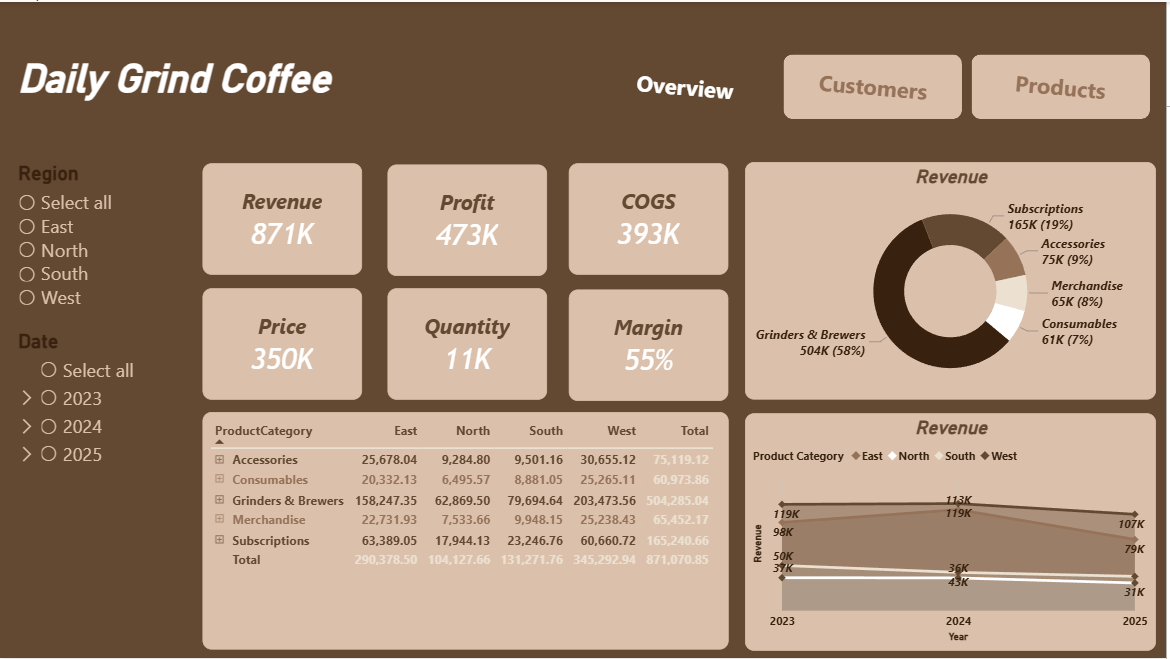

What the dashboard file says about the page in this screenshot:
{"tool":"powerbi","page":{"name":"Overview","canvas":[1280,720],"ordinal":0},"visuals":[{"type":"listSlicer","fields":{"Values":["Daily_Grind_Coffee.Region"]},"box":[15.1,175.6,222.3,273.1],"z":0},{"type":"listSlicer","title":"Date","fields":{"Values":["Daily_Grind_Coffee.OrderDate.Variation.Date Hierarchy.Year","Daily_Grind_Coffee.OrderDate.Variation.Date Hierarchy.Quarter","Daily_Grind_Coffee.OrderDate.Variation.Date Hierarchy.Month","Daily_Grind_Coffee.OrderDate.Variation.Date Hierarchy.Day"]},"box":[15.1,359.5,222.3,319.7],"z":1000},{"type":"cardVisual","fields":{"Data":["Sum(Daily_Grind_Coffee.Cleaned Revenue)"]},"box":[222.6,177.4,175,122.6],"z":2000},{"type":"cardVisual","fields":{"Data":["Sum(Daily_Grind_Coffee.Profit)"]},"box":[425,178.6,175,122.6],"z":3000},{"type":"cardVisual","fields":{"Data":["Sum(Daily_Grind_Coffee.COGS)"]},"box":[625,177.4,175,122.6],"z":4000},{"type":"cardVisual","fields":{"Data":["Sum(Daily_Grind_Coffee.Price)"]},"box":[222.6,314.3,175,122.6],"z":5000},{"type":"cardVisual","fields":{"Data":["Sum(Daily_Grind_Coffee.Quantity)"]},"box":[425,314.3,175,122.6],"z":6000},{"type":"cardVisual","fields":{"Data":["Daily_Grind_Coffee.Margin"]},"box":[625,315.5,175,122.6],"z":7000},{"type":"pivotTable","fields":{"Values":["Sum(Daily_Grind_Coffee.Cleaned Revenue)"],"Rows":["Daily_Grind_Coffee.Product Hierarchy.ProductCategory","Daily_Grind_Coffee.Product Hierarchy.ProductName"],"Columns":["Daily_Grind_Coffee.Region"]},"box":[222.6,450,577.4,260.7],"z":8000},{"type":"donutChart","title":"Revenue","fields":{"Category":["Daily_Grind_Coffee.ProductCategory"],"Y":["Sum(Daily_Grind_Coffee.Cleaned Revenue)"]},"box":[817.9,176.2,451.2,260.7],"z":9000},{"type":"areaChart","title":"Revenue","fields":{"Category":["Daily_Grind_Coffee.OrderDate.Variation.Date Hierarchy.Year","Daily_Grind_Coffee.OrderDate.Variation.Date Hierarchy.Quarter","Daily_Grind_Coffee.OrderDate.Variation.Date Hierarchy.Month","Daily_Grind_Coffee.OrderDate.Variation.Date Hierarchy.Day"],"Y":["Sum(Daily_Grind_Coffee.Cleaned Revenue)"],"Series":["Daily_Grind_Coffee.Region"]},"box":[817.9,451.2,451.2,260.7],"z":10000},{"type":"pageNavigator","title":"n","box":[650.4,53.5,618.9,79.6],"z":11000},{"type":"textbox","box":[15.1,53.5,558.5,149.6],"z":12000}]}

Visuals, with their boxes in screenshot pixels (x1, y1, x2, y2), scaled from the page's 1280x720 canvas onto the 1170x659 screenshot:
listSlicer - Daily_Grind_Coffee.Region: 14,161,217,411
"Date" listSlicer: 14,329,217,622
cardVisual - Sum(Daily_Grind_Coffee.Cleaned Revenue): 203,162,363,275
cardVisual - Sum(Daily_Grind_Coffee.Profit): 388,163,548,276
cardVisual - Sum(Daily_Grind_Coffee.COGS): 571,162,731,275
cardVisual - Sum(Daily_Grind_Coffee.Price): 203,288,363,400
cardVisual - Sum(Daily_Grind_Coffee.Quantity): 388,288,548,400
cardVisual - Daily_Grind_Coffee.Margin: 571,289,731,401
pivotTable - Sum(Daily_Grind_Coffee.Cleaned Revenue) x Daily_Grind_Coffee.Product Hierarchy.ProductCategory: 203,412,731,650
"Revenue" donutChart: 748,161,1160,400
"Revenue" areaChart: 748,413,1160,652
"n" pageNavigator: 595,49,1160,122
textbox: 14,49,524,186
